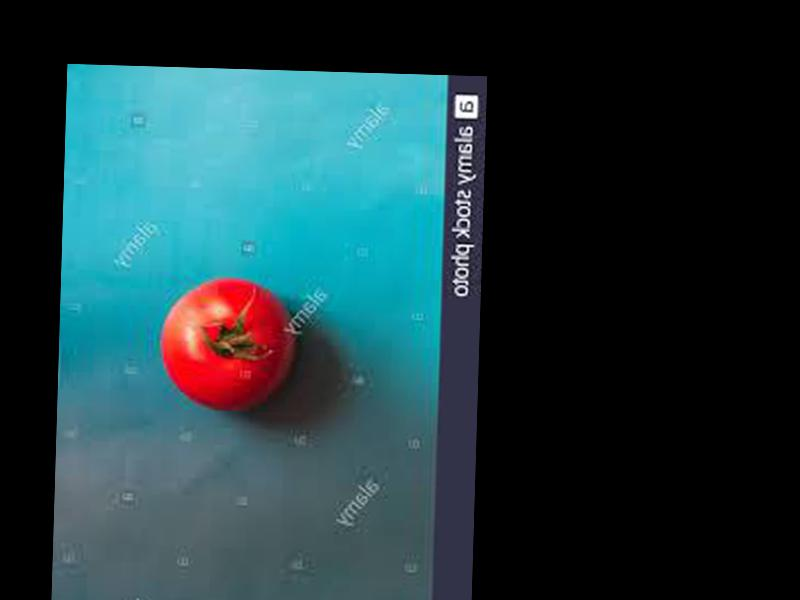Tomato: (158, 276, 297, 410)
